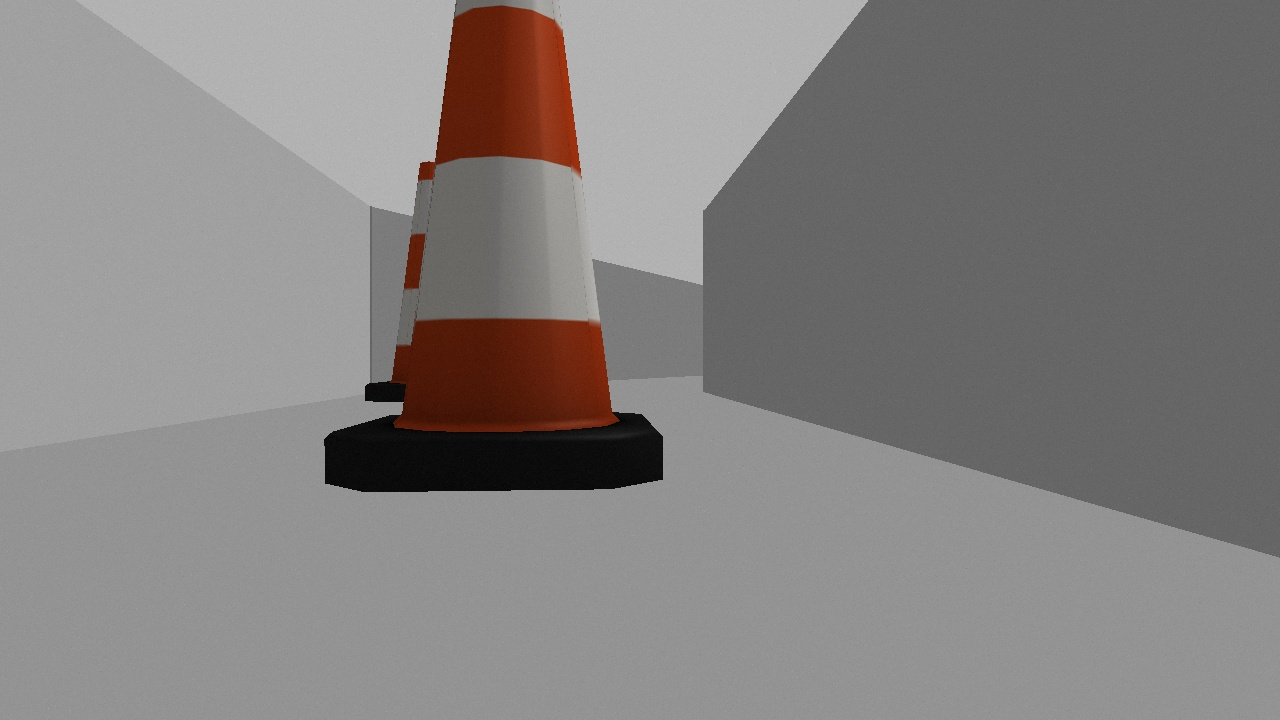barricade: (322, 1, 664, 491), (363, 160, 475, 403)
